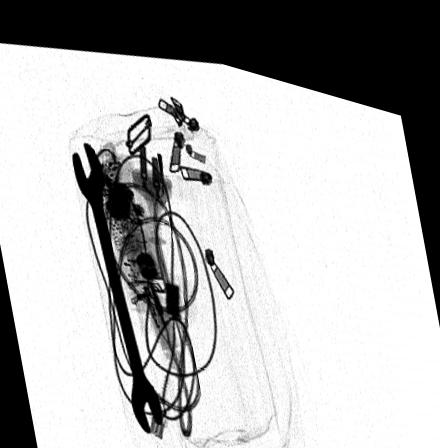Wrench: (72, 138, 163, 424)
